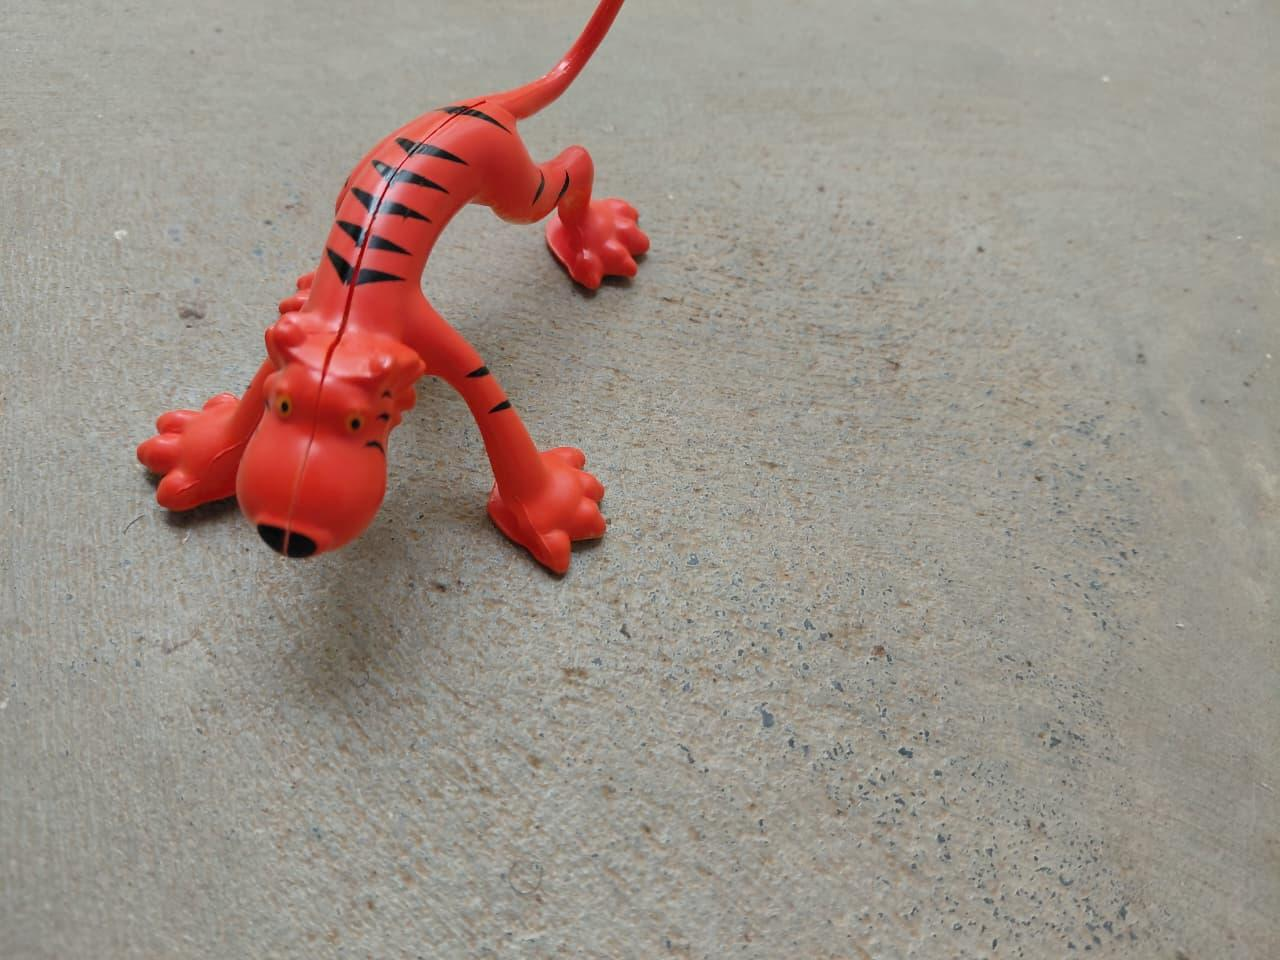tiger: (132, 24, 661, 596)
